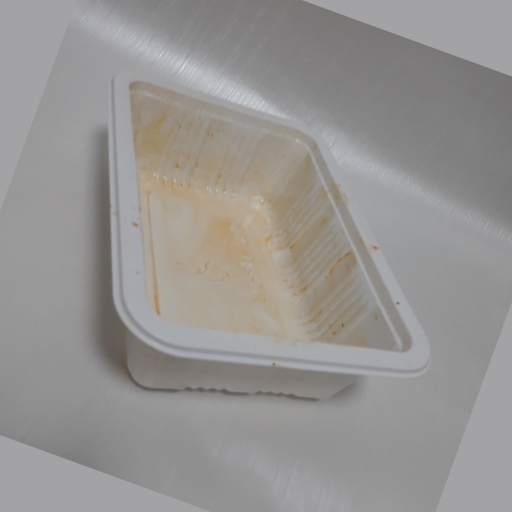Plastic_4: (103, 70, 432, 405)
